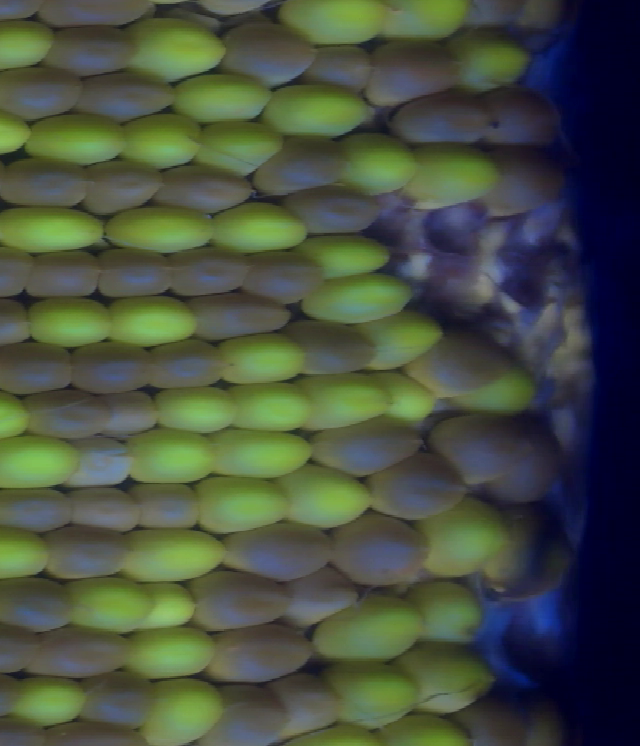fluorescent: (315, 596, 420, 660), (419, 501, 505, 577), (326, 660, 414, 730), (407, 143, 496, 212), (283, 461, 373, 529), (126, 524, 226, 585), (298, 272, 410, 326), (406, 642, 491, 711), (129, 15, 222, 78), (195, 475, 291, 534), (104, 206, 212, 255), (214, 429, 315, 480), (268, 83, 366, 135), (126, 427, 215, 484), (171, 72, 271, 121), (212, 200, 308, 251), (307, 371, 389, 430), (2, 205, 107, 251), (32, 115, 124, 167), (280, 1, 386, 46), (67, 576, 152, 632), (198, 122, 285, 176), (121, 113, 203, 170), (415, 580, 481, 650), (219, 334, 305, 387), (125, 629, 217, 678), (110, 296, 200, 346), (29, 294, 113, 347), (369, 308, 445, 366), (457, 38, 530, 97), (339, 135, 414, 192), (145, 683, 220, 740), (150, 384, 237, 432), (227, 382, 312, 431), (449, 366, 537, 413), (305, 231, 390, 279), (0, 436, 75, 490), (9, 674, 84, 725), (383, 370, 441, 424), (385, 4, 472, 38), (0, 527, 49, 581), (0, 20, 51, 70), (145, 580, 197, 629)
nonfluorescent: (404, 322, 513, 397), (329, 513, 425, 587), (365, 454, 466, 520), (225, 523, 331, 584), (484, 145, 570, 220), (428, 413, 522, 481), (249, 135, 347, 200), (362, 38, 463, 100), (192, 571, 291, 634), (312, 417, 421, 471), (207, 626, 315, 680), (391, 89, 493, 144), (225, 23, 313, 86), (30, 628, 129, 680), (158, 163, 251, 216), (212, 682, 289, 746), (192, 291, 291, 340), (79, 71, 175, 120), (42, 28, 137, 77), (0, 64, 84, 118), (79, 670, 156, 728), (281, 567, 354, 628), (293, 187, 381, 237), (25, 389, 108, 442), (85, 161, 163, 217), (508, 421, 561, 503), (45, 527, 125, 581), (295, 320, 372, 376), (249, 248, 322, 307), (487, 87, 561, 145), (3, 158, 87, 209), (0, 343, 73, 399), (300, 43, 371, 100), (72, 339, 148, 392), (98, 246, 172, 300), (146, 340, 223, 389), (0, 578, 71, 631), (26, 250, 103, 298), (69, 482, 142, 532), (171, 248, 249, 294), (280, 672, 340, 730), (135, 481, 198, 533), (0, 490, 72, 535), (70, 438, 130, 487), (105, 389, 157, 440), (0, 622, 36, 673), (0, 245, 30, 300)
